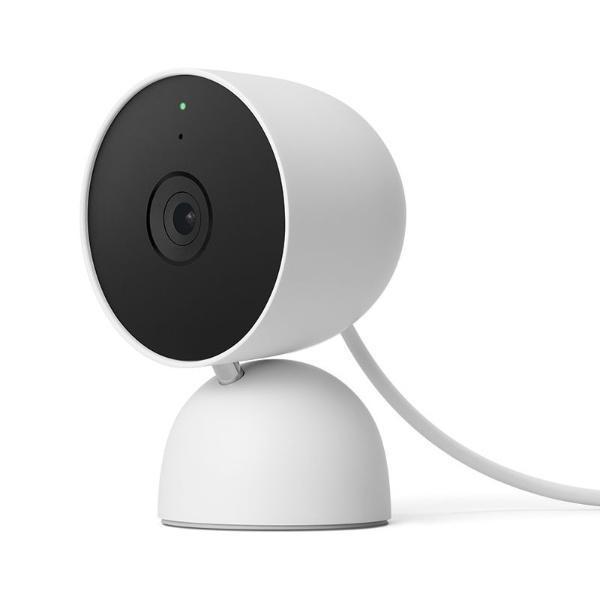maru: (80, 58, 408, 534)
